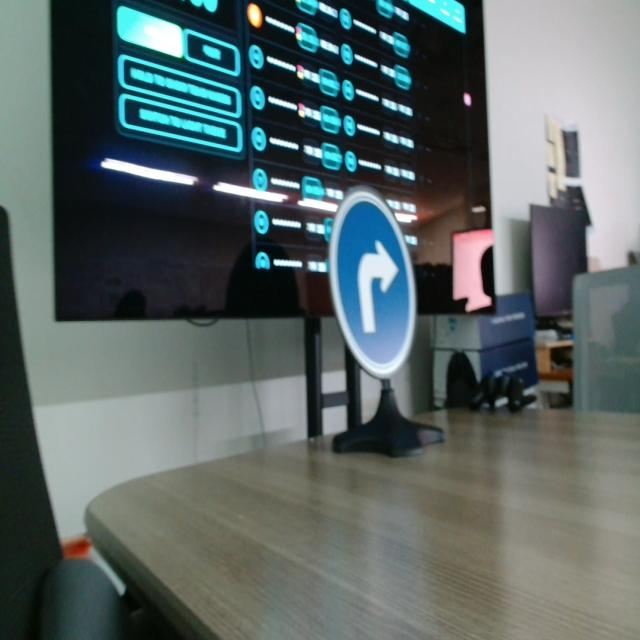right_dierection: (326, 189, 420, 380)
